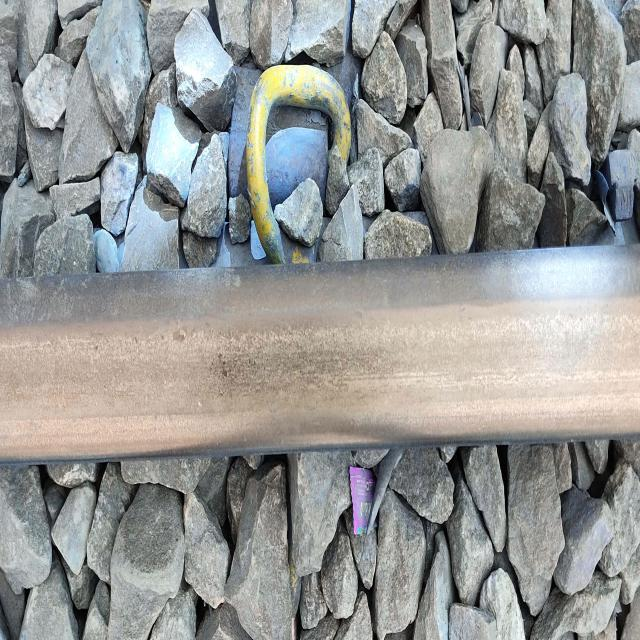Good Fasteners: (243, 65, 350, 262)
